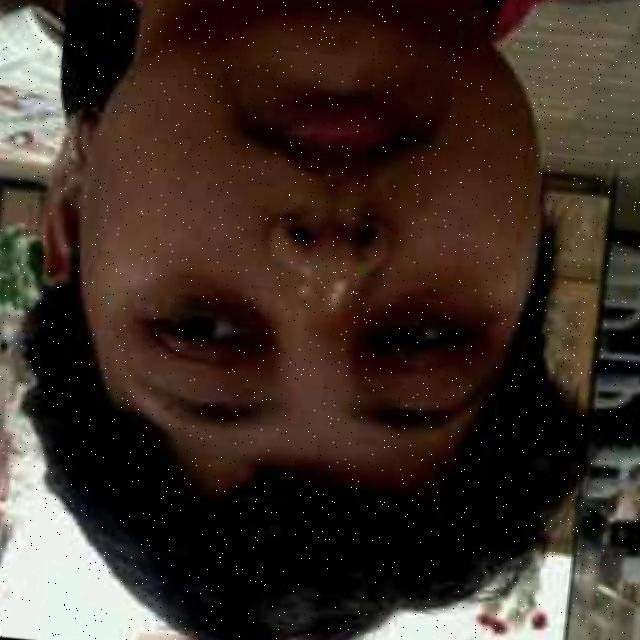puffy_eyes: (152, 283, 273, 334), (354, 292, 473, 331)
